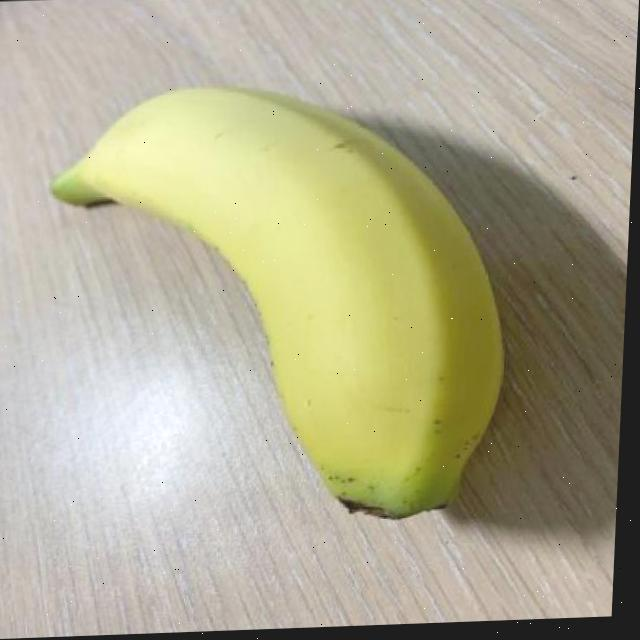banana: (22, 65, 532, 539)
